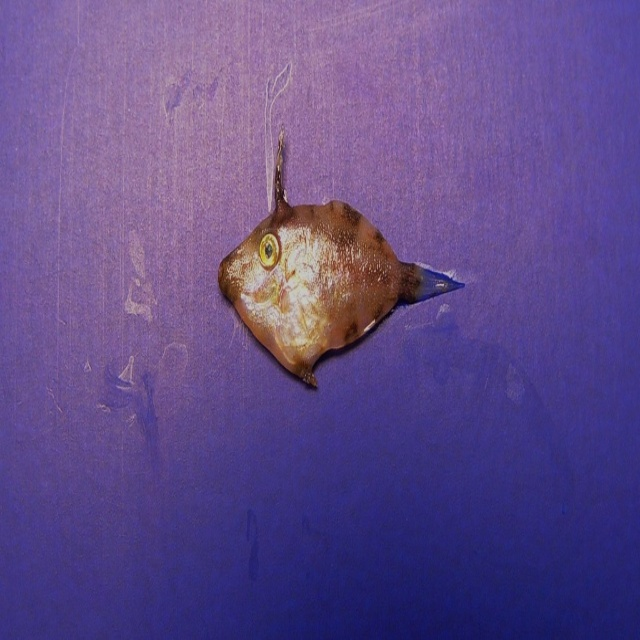Fish: (219, 146, 471, 386)
